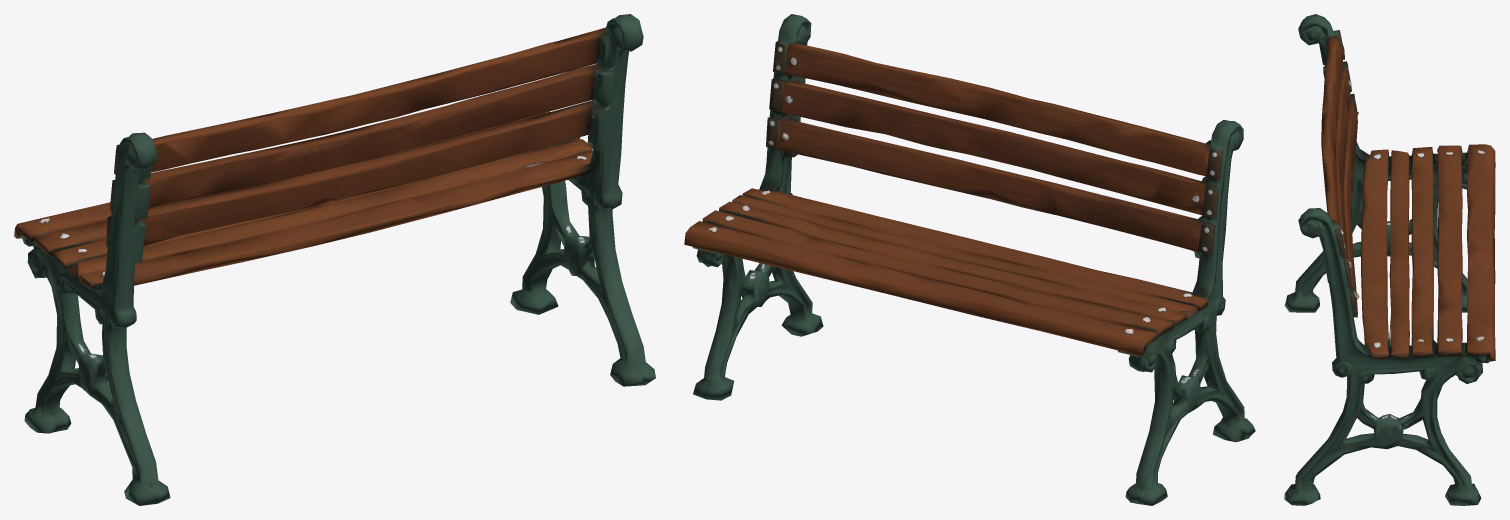
The model's file is prop.bench.glb.
3 views of the same model, side by side, from view 1: azimuth 30°, elevation 25°; view 2: azimuth 150°, elevation 25°; view 3: azimuth 270°, elevation 25° (orthographic). The views are drawn at different scales.
Parts seen in each view (by area): view 1: tripo_node_aef9178b-3cdb-4ce5-8412-e9202096c215; view 2: tripo_node_aef9178b-3cdb-4ce5-8412-e9202096c215; view 3: tripo_node_aef9178b-3cdb-4ce5-8412-e9202096c215.
Part boxes in pixels (x1,y1,x2,y2): tripo_node_aef9178b-3cdb-4ce5-8412-e9202096c215: (14, 14, 655, 505); tripo_node_aef9178b-3cdb-4ce5-8412-e9202096c215: (684, 14, 1255, 505); tripo_node_aef9178b-3cdb-4ce5-8412-e9202096c215: (1284, 14, 1495, 505).
Size of the model in its own units: 1 by 0.6523 by 0.4307.
Materials: 1 (1 with a texture image).
